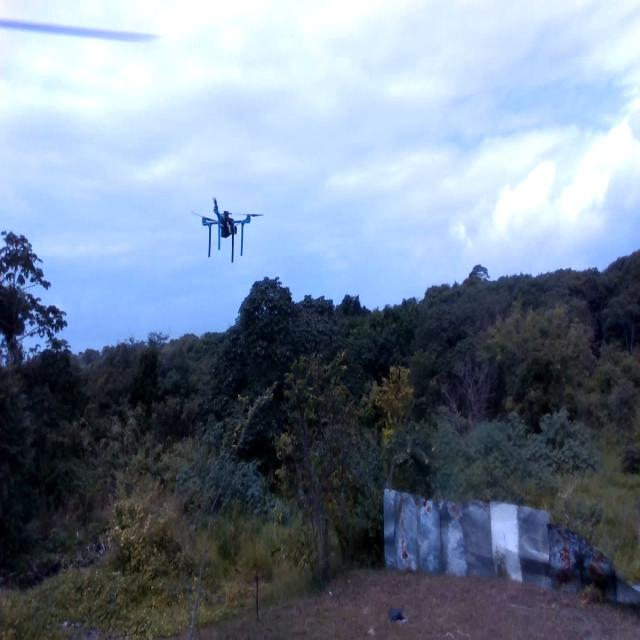-uav-: (189, 187, 265, 265)
